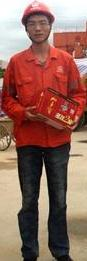boots: (54, 254, 74, 261), (1, 1, 1, 1)
hard-hat: (21, 0, 54, 24)
ppe-suit: (0, 43, 44, 260)
vest: (0, 43, 78, 146)
